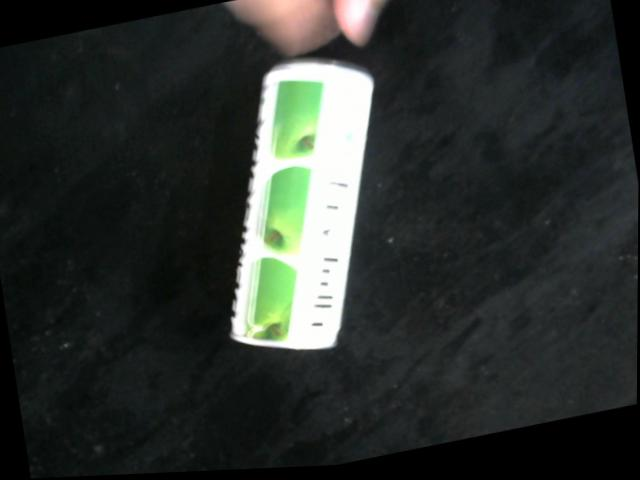can: (227, 60, 377, 355)
